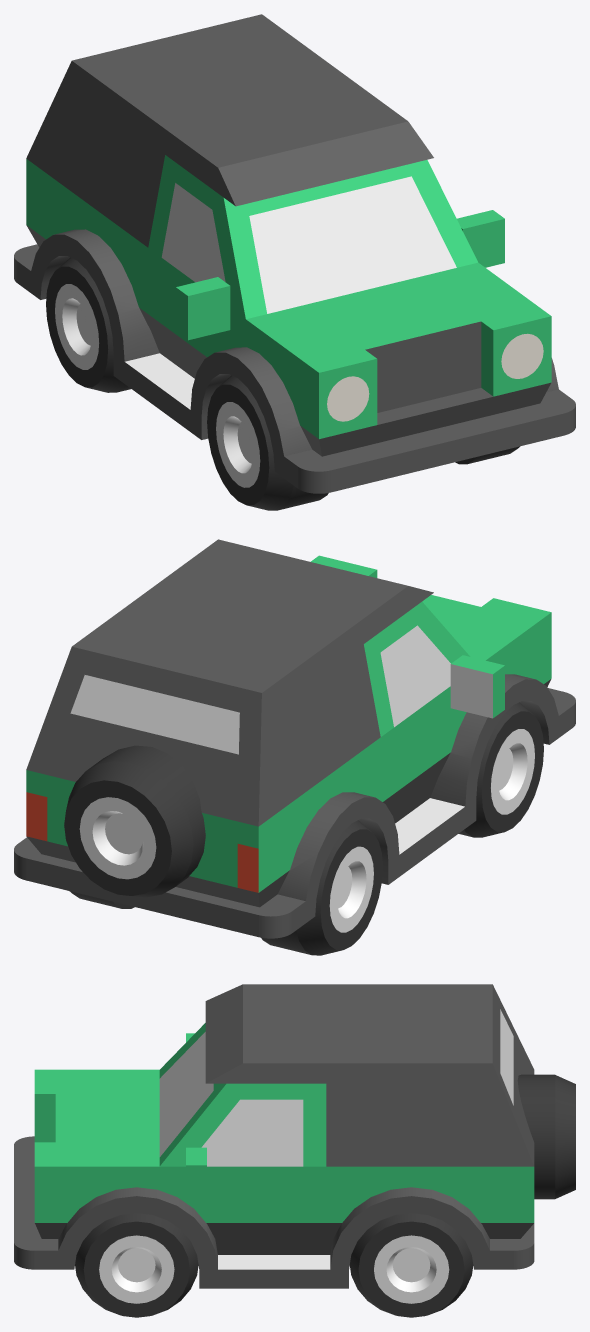
File: suv.fbx
3 views of the same model, one above another, from view 1: azimuth 30°, elevation 25°; view 2: azimuth 150°, elevation 25°; view 3: azimuth 270°, elevation 25° (orthographic). The views are drawn at different scales.
Parts seen in each view (by area): view 1: body, wheel_frontRight, wheel_backRight; view 2: body, wheel_back, wheel_backRight, wheel_frontRight; view 3: body, wheel_backLeft, wheel_frontLeft, wheel_back.
Part boxes in pixels (box(x1,y1,x2,y2)): body: box(14, 14, 575, 493); wheel_frontRight: box(207, 375, 328, 510); wheel_backRight: box(46, 257, 130, 392); body: box(14, 539, 575, 938); wheel_back: box(64, 745, 205, 897); wheel_backRight: box(261, 820, 382, 955); wheel_frontRight: box(458, 702, 543, 837); body: box(14, 984, 534, 1288); wheel_backLeft: box(349, 1213, 473, 1317); wheel_frontLeft: box(75, 1213, 198, 1317); wheel_back: box(517, 1074, 575, 1199).
Size of the model in its own units: 15 by 13 by 27.
